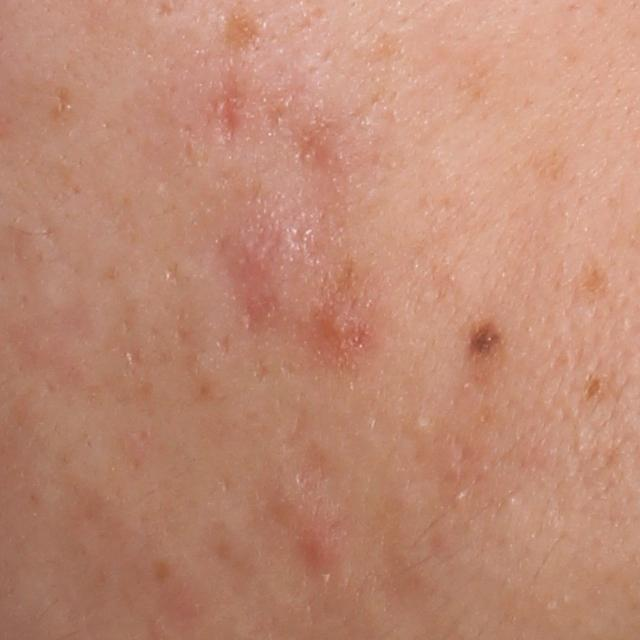atrophic_scar: (294, 439, 337, 501), (213, 77, 245, 150), (212, 331, 234, 358)
comedo: (410, 415, 433, 436)
nevus: (444, 305, 517, 369)
papule: (298, 524, 346, 574), (315, 305, 359, 350)
